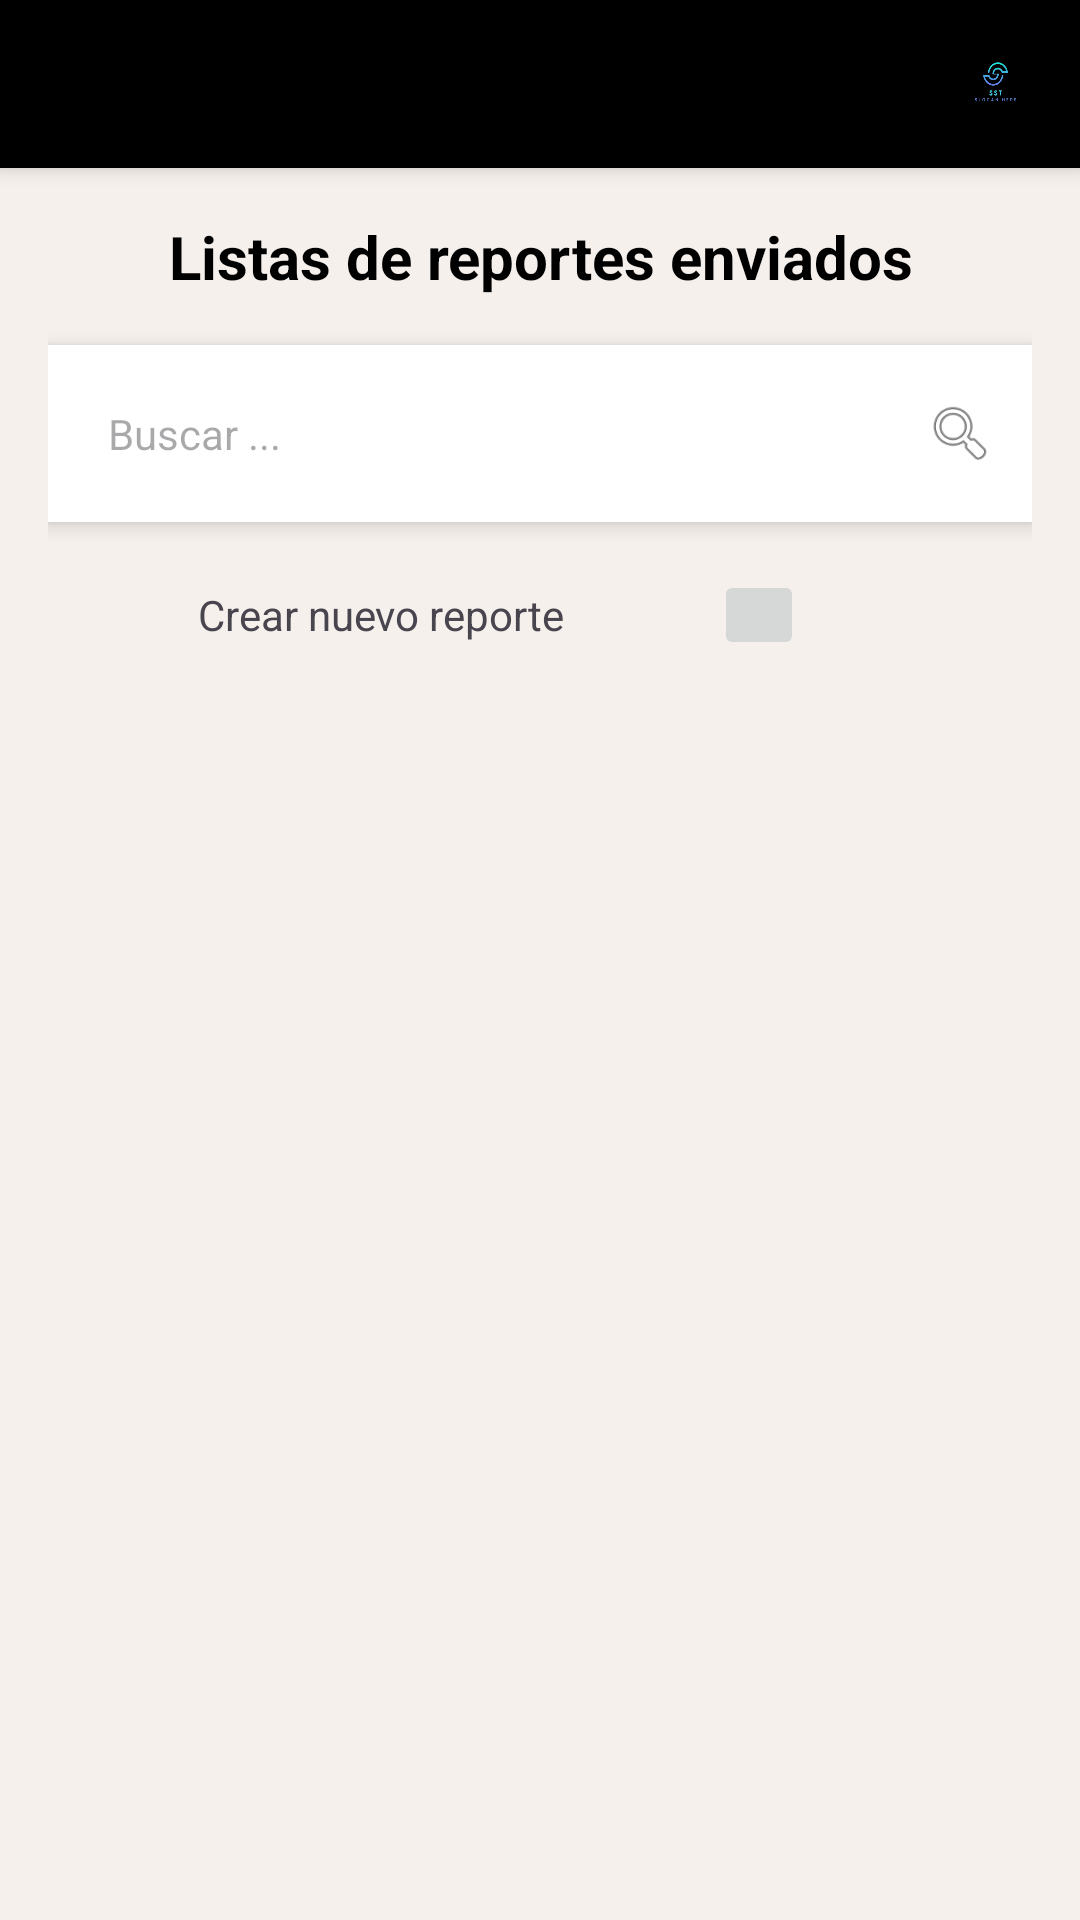

Locate icon controls on the screen. Image size 1080 × 1920, boxes as rect(x1, y1, x2, y2).
search: rect(933, 407, 987, 460)
